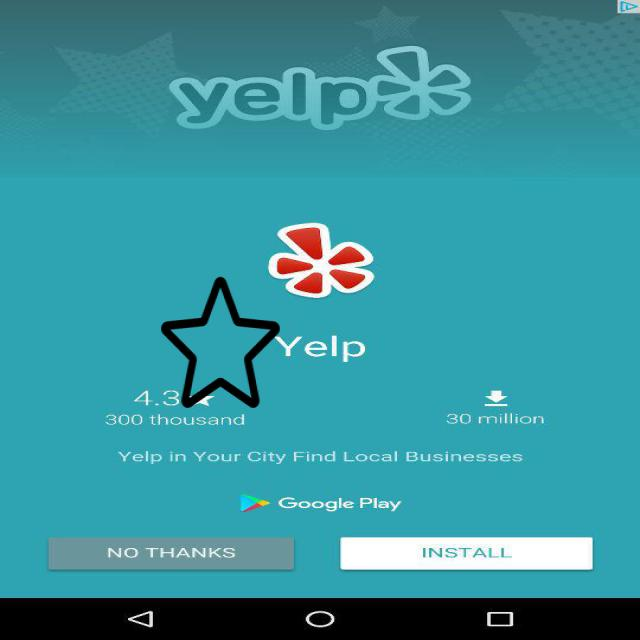forced continuity: (161, 274, 280, 411)
